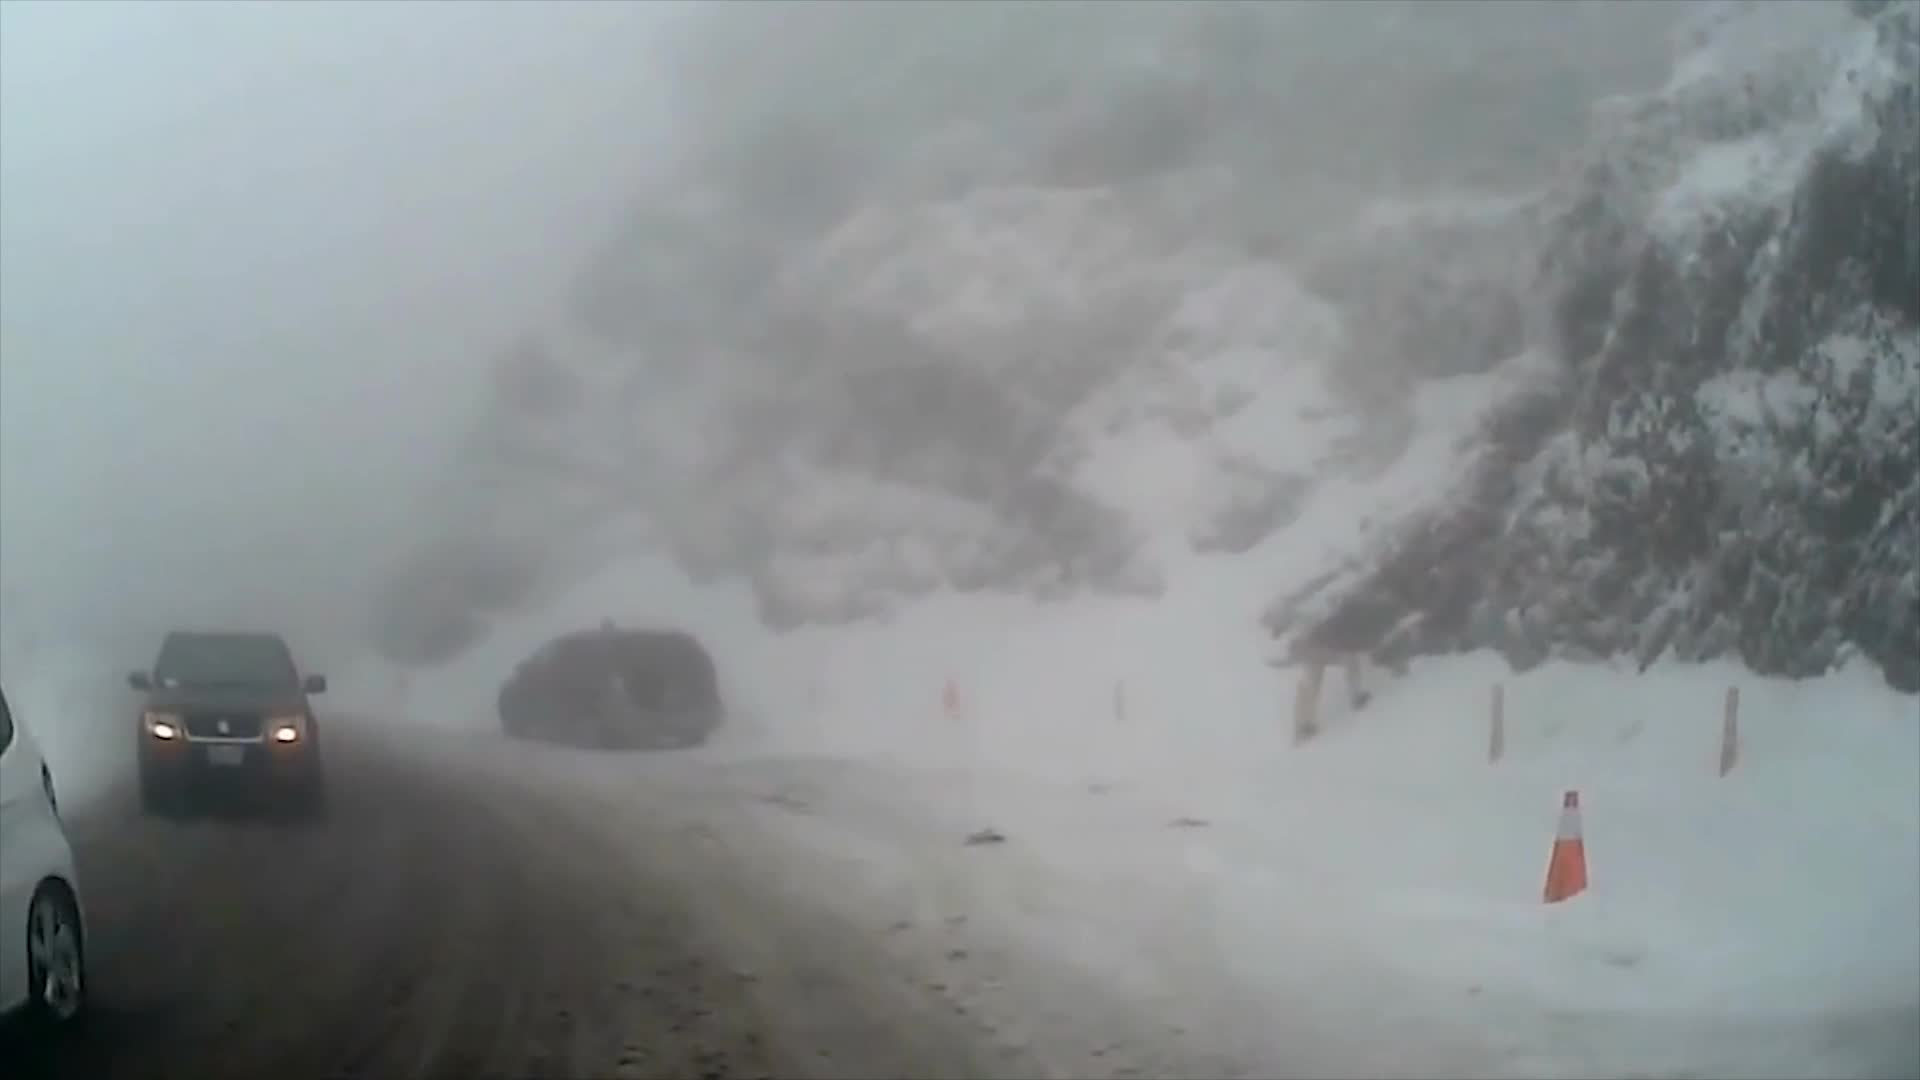vehicle: (123, 626, 328, 820), (0, 674, 94, 1048), (495, 624, 719, 752)
